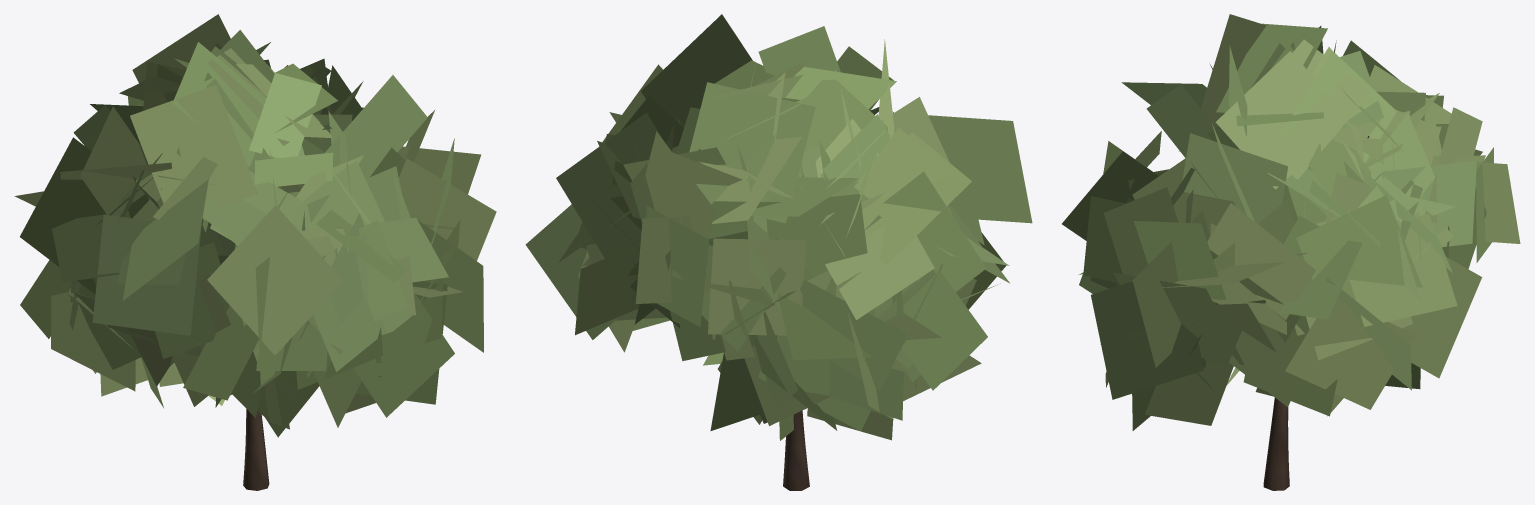
The model's file is whiteblossom_lod1.glb.
The picture shows the model from 3 angles, left to right: view 1: azimuth 30°, elevation 25°; view 2: azimuth 150°, elevation 25°; view 3: azimuth 270°, elevation 25°; orthographic projection. The views are drawn at different scales.
Parts seen in each view (by area): view 1: whiteblossom_lod1; view 2: whiteblossom_lod1; view 3: whiteblossom_lod1.
Part boxes in pixels (x1,y1,x2,y2): whiteblossom_lod1: (14,14,496,490); whiteblossom_lod1: (525,14,1032,490); whiteblossom_lod1: (1062,14,1520,490).
Bounding box in the file's own units: 1 × 1 × 0.9424.
